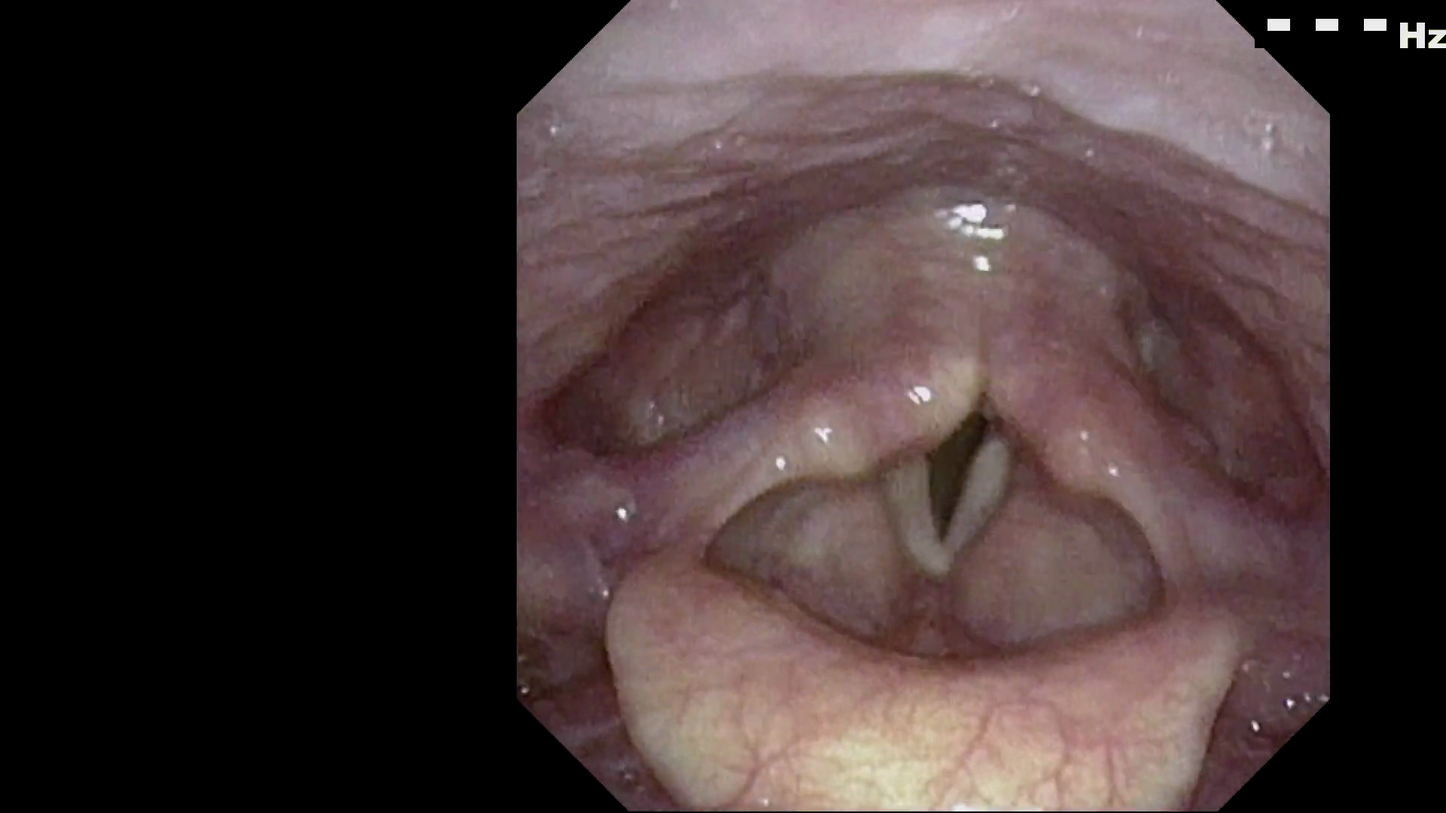epiglottis: (599, 524, 1236, 769)
trachea: (875, 376, 1054, 601)
